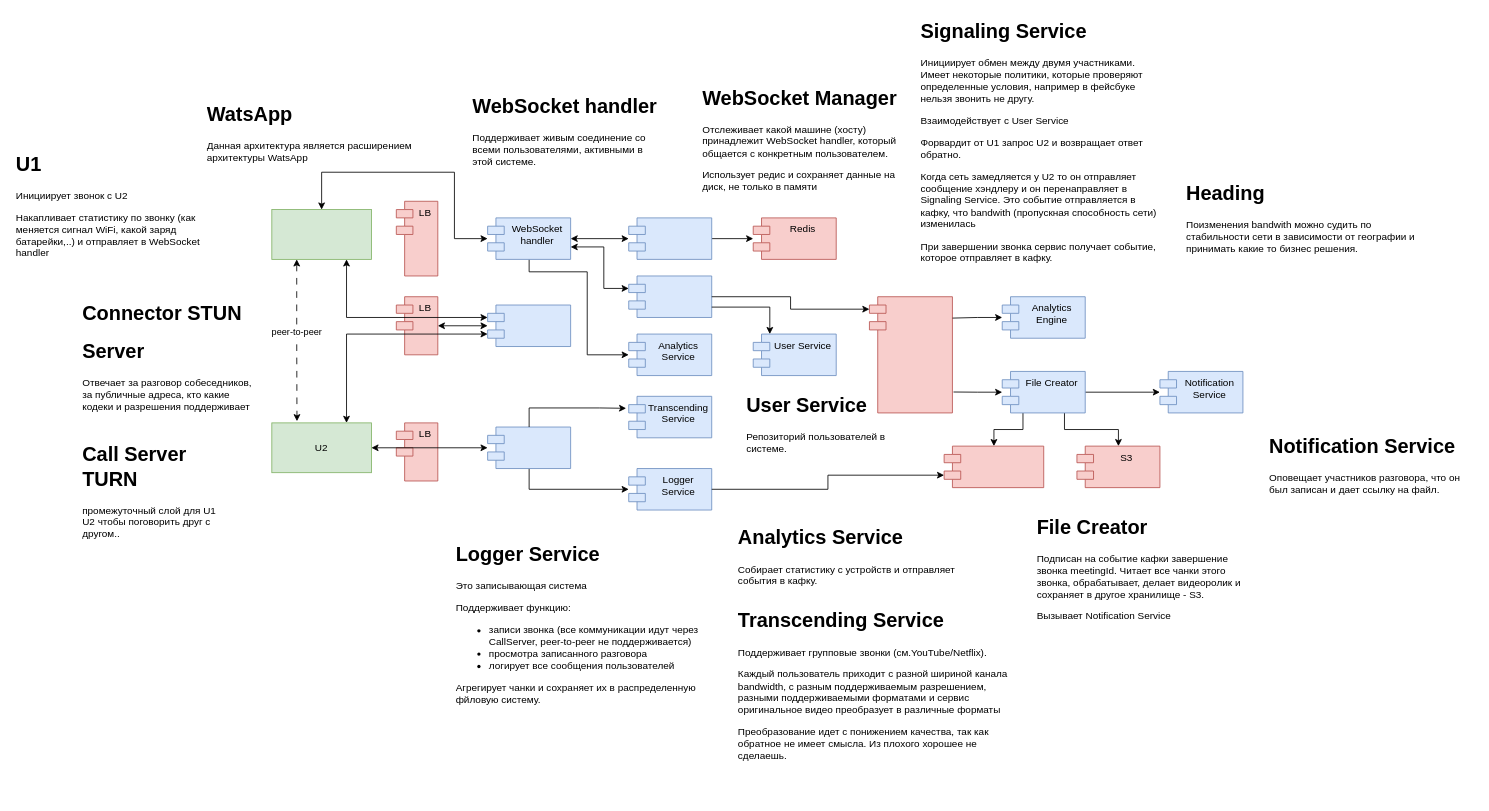
Some shapes in this 1489 by 811 pixel diagram are drawn without their labels. Here are the shapes that lost their labels. From the top down, the centre of each, then its label:
At point 321,234: "U1".
At point 670,238: "WebSocket Manager".
At point 670,296: "Signaling Service".
At point 529,325: "Connector STUN Server".
At point 910,354: "Kafka".
At point 529,447: "Call Server TURN".
At point 993,466: "Распределенная ФС".
